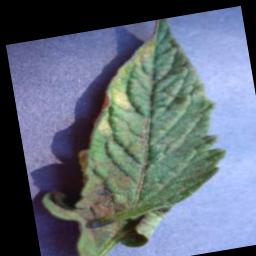Leaf_Mold: (89, 37, 165, 113), (91, 115, 113, 137)
